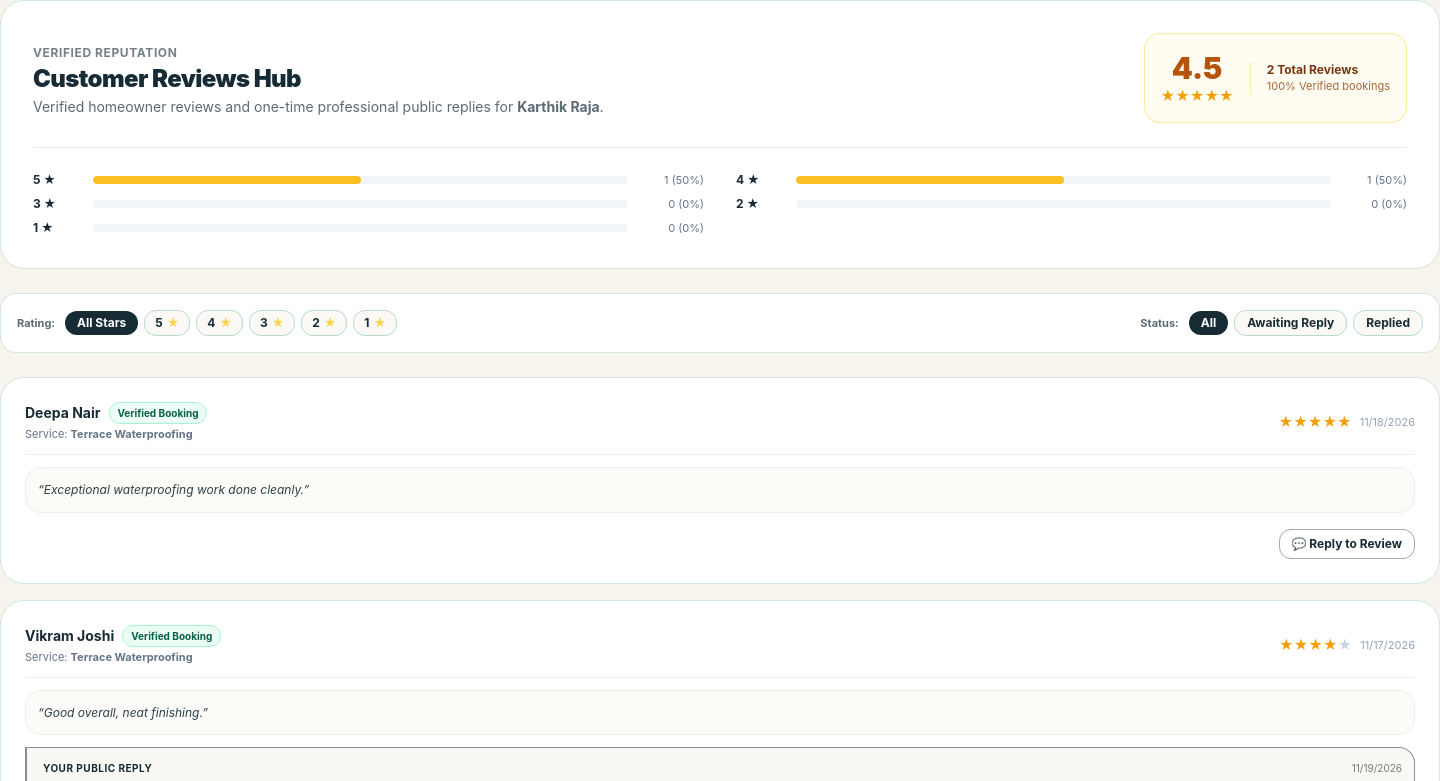
it: ProviderReviewsHub Component › opens reply composer, enters valid reply, and submits
Click the button "💬 Reply to Review" at (1347, 544), box x1=1278 y1=528 x2=1415 y2=558
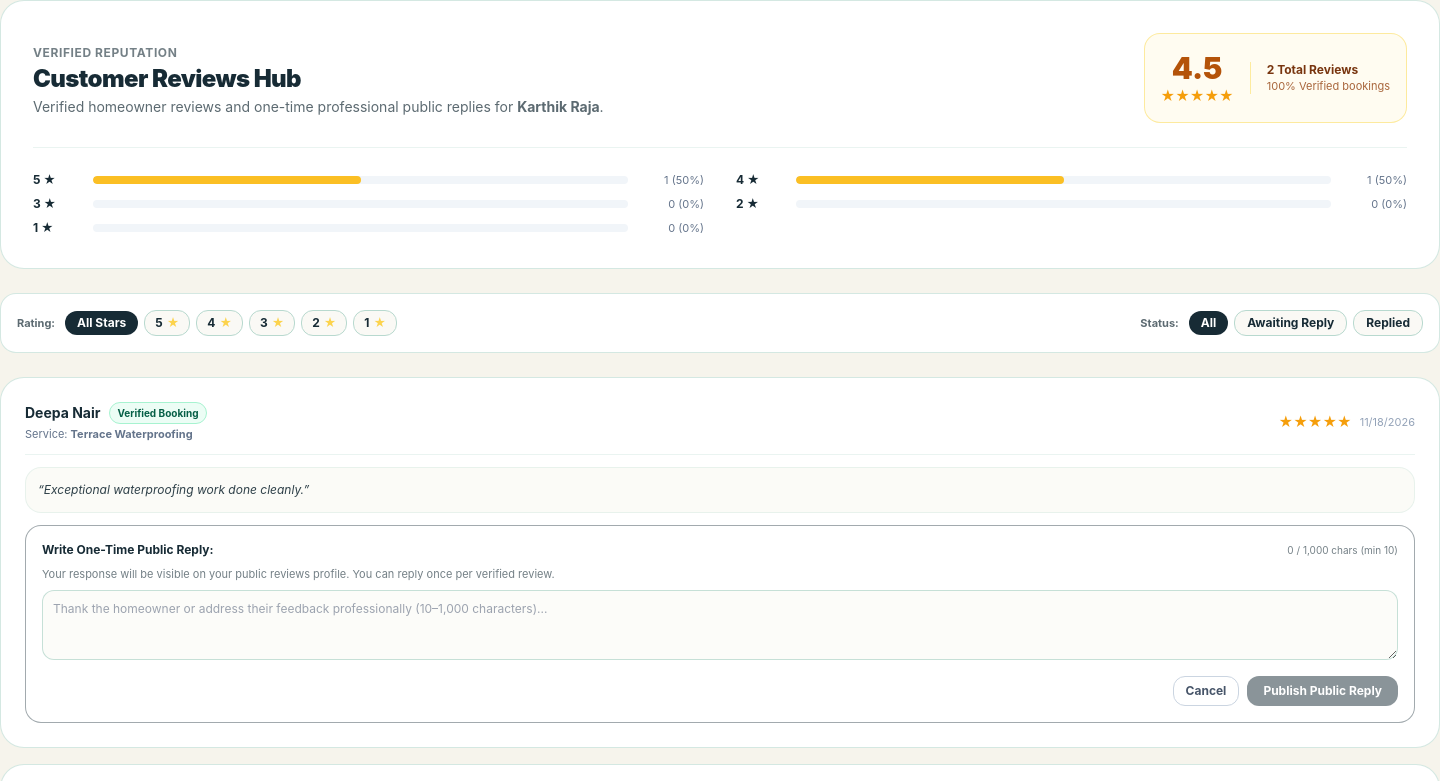
Expected: the text "Write One-Time Public Reply:" is shown, x1=42 y1=542 x2=214 y2=558
Replace the text in the text box with placeholder "Thank the homeowner or address their feedback" with "Thank you Deepa! Always here to assist." at (720, 624), box x1=42 y1=590 x2=1398 y2=660
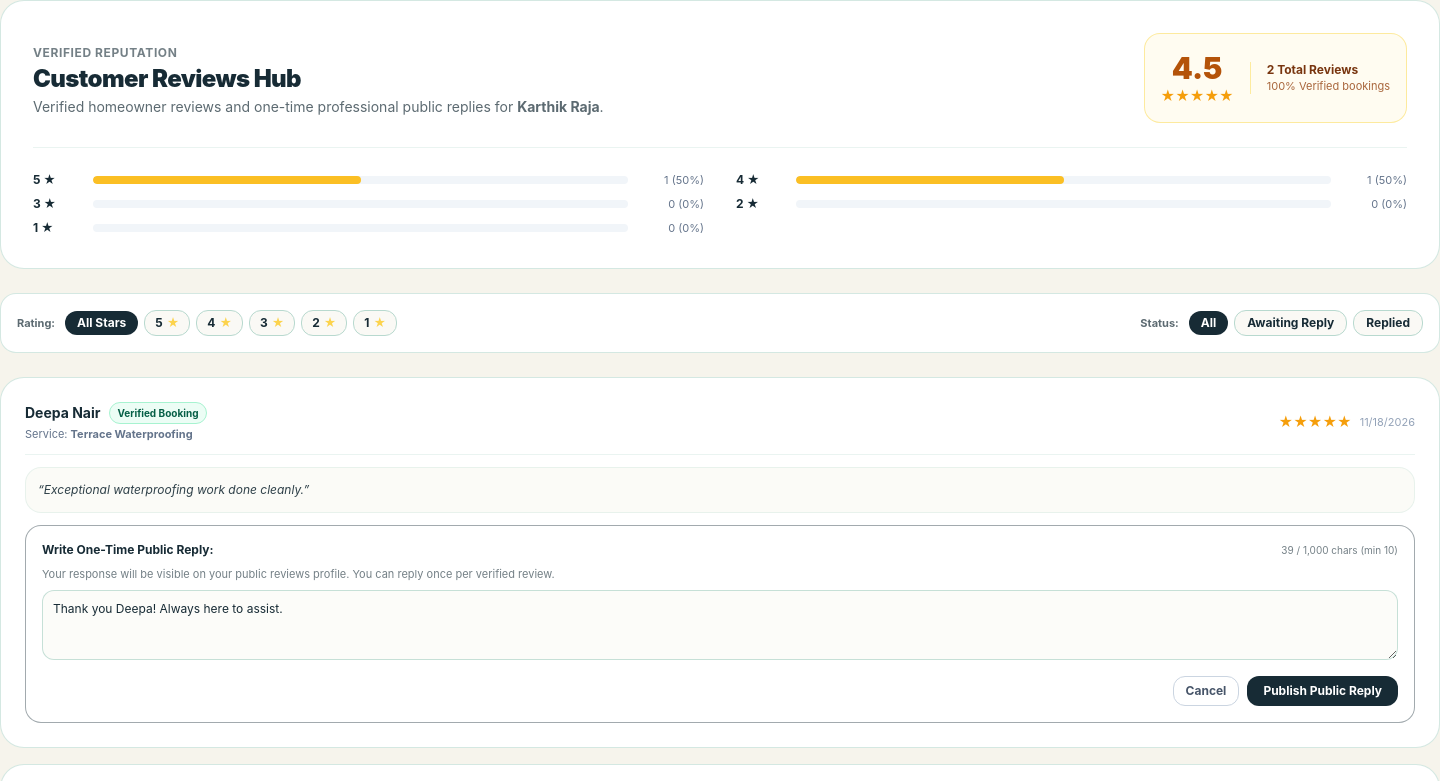
Click the button "Publish Public Reply" at (1323, 690), box x1=1247 y1=676 x2=1398 y2=706
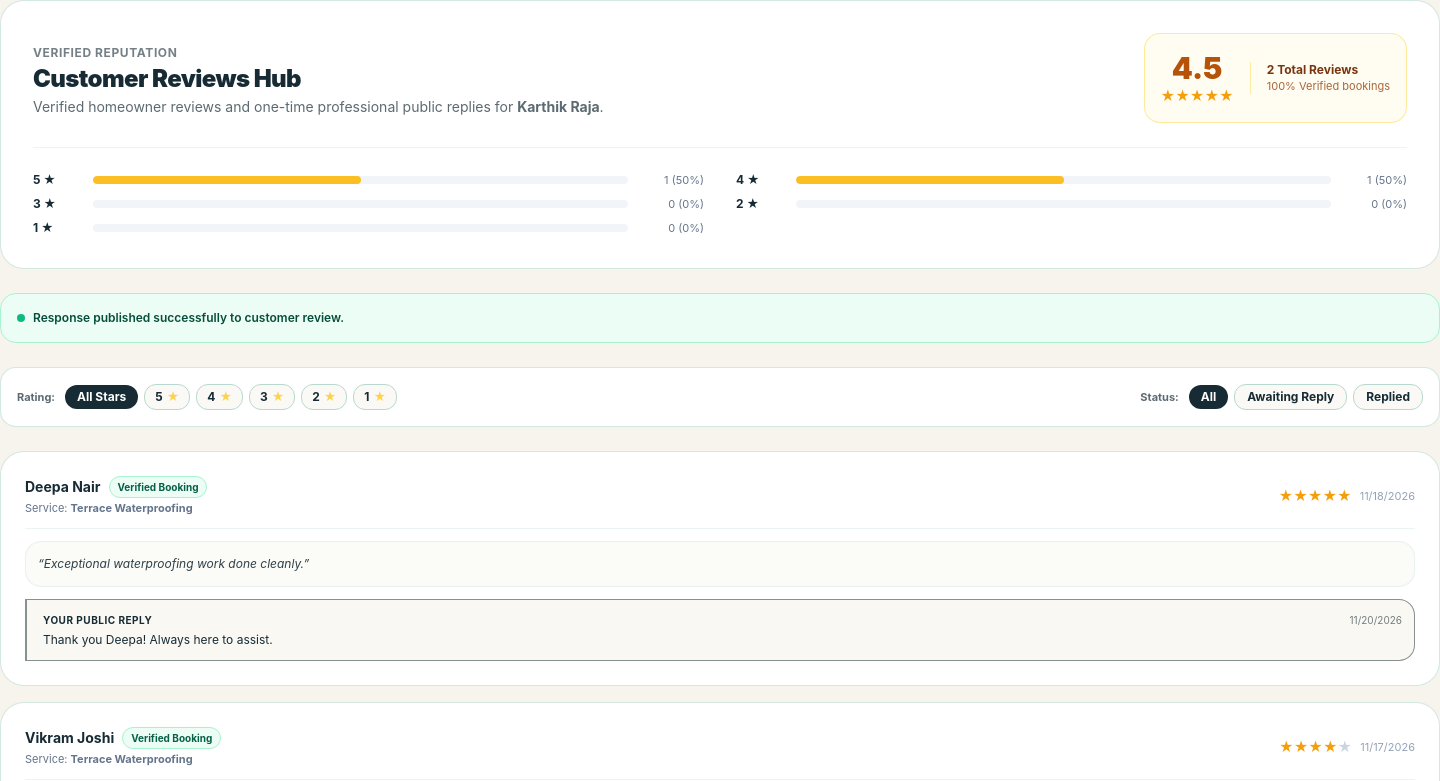
Expected: the text "Thank you Deepa! Always here to assist." is shown, x1=43 y1=632 x2=273 y2=646
